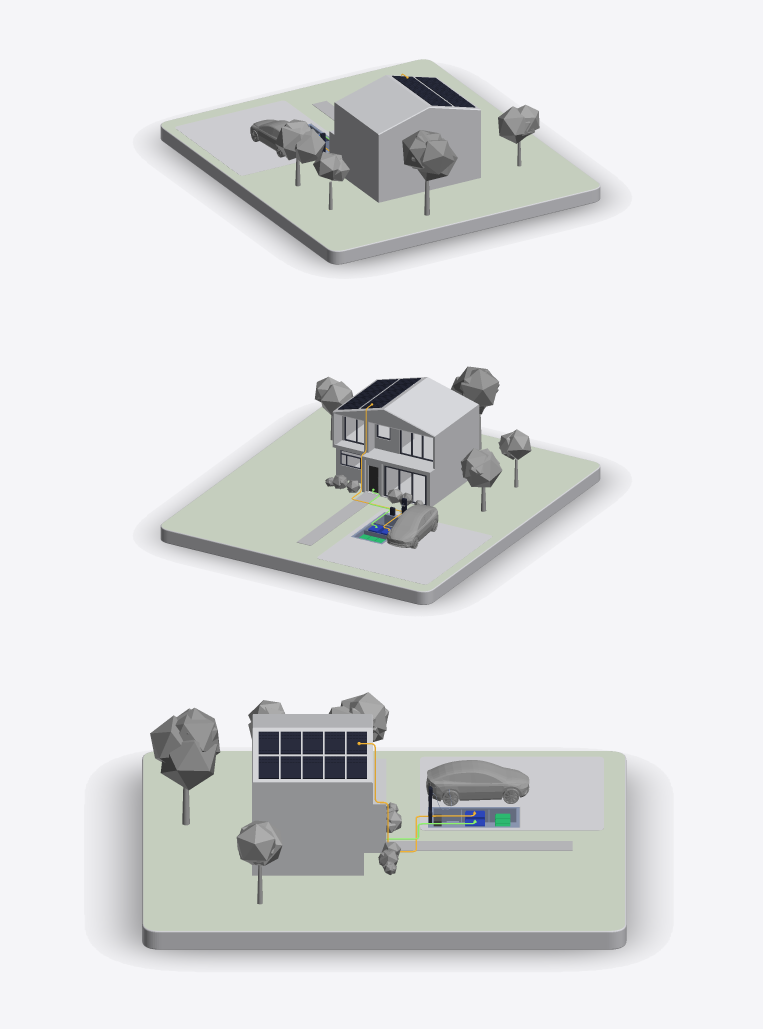
File: sett-scroll-doelgroep-particulier.glb
3 views of the same model, one above another, from view 1: azimuth 30°, elevation 25°; view 2: azimuth 150°, elevation 25°; view 3: azimuth 270°, elevation 25° (orthographic). The views are drawn at different scales.
Visible parts, largest first — view 1: object 93, Muren_boven, contact_shadow, object 94, Muren_beneden, object 77, object 70, car, object 63, object 75, object 61, object 67; view 2: object 93, Muren_boven, object 94, Muren_beneden, contact_shadow, car, Pathway, object 75, object 61, object 70, Vloer, object 67; view 3: object 93, contact_shadow, Muren_boven, object 94, Muren_beneden, car, object 76, Pathway, object 71, BAK_met_RIBS, object 78, object 77 (+1 smaller).
Part boxes in pixels (left/top/right/bottom): object 93: left=160, top=59, right=600, bottom=264; Muren_boven: left=334, top=75, right=480, bottom=166; contact_shadow: left=157, top=138, right=607, bottom=268; object 94: left=175, top=100, right=329, bottom=175; Muren_beneden: left=329, top=130, right=480, bottom=202; object 77: left=420, top=139, right=454, bottom=174; object 70: left=498, top=106, right=531, bottom=143; car: left=250, top=119, right=288, bottom=157; object 63: left=294, top=128, right=325, bottom=163; object 75: left=402, top=130, right=430, bottom=168; object 61: left=275, top=126, right=305, bottom=160; object 67: left=313, top=151, right=340, bottom=180; object 93: left=160, top=406, right=600, bottom=604; Muren_boven: left=332, top=377, right=479, bottom=468; object 94: left=317, top=509, right=492, bottom=584; Muren_beneden: left=332, top=424, right=479, bottom=506; contact_shadow: left=157, top=472, right=607, bottom=605; car: left=386, top=504, right=438, bottom=548; Pathway: left=296, top=492, right=377, bottom=545; object 75: left=459, top=368, right=498, bottom=406; object 61: left=461, top=451, right=502, bottom=487; object 70: left=321, top=381, right=353, bottom=415; Vloer: left=354, top=462, right=466, bottom=506; object 67: left=506, top=429, right=531, bottom=459; object 93: left=142, top=751, right=626, bottom=949; contact_shadow: left=115, top=768, right=642, bottom=958; Muren_boven: left=252, top=714, right=372, bottom=826; object 94: left=420, top=756, right=603, bottom=830; Muren_beneden: left=252, top=758, right=386, bottom=875; car: left=426, top=760, right=529, bottom=805; object 76: left=160, top=739, right=217, bottom=790; Pathway: left=386, top=841, right=572, bottom=850; object 71: left=236, top=824, right=275, bottom=862; BAK_met_RIBS: left=428, top=807, right=519, bottom=826; object 78: left=175, top=708, right=220, bottom=754; object 77: left=150, top=715, right=182, bottom=762.
Bounding box in the file's own units: 3281 × 652 × 3281.
29 materials, 1 textured.
